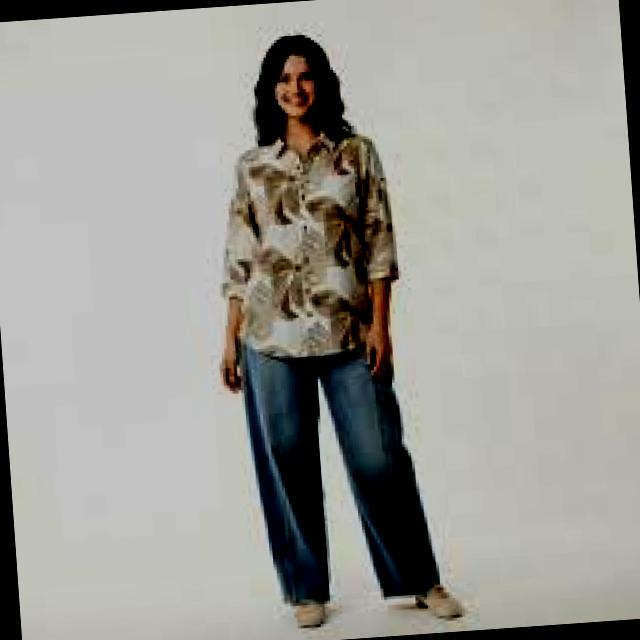face: (274, 54, 316, 121)
foot-wear: (415, 585, 463, 618), (293, 599, 324, 628)
lower-wear: (238, 342, 438, 603)
top-wear: (221, 131, 398, 358)
